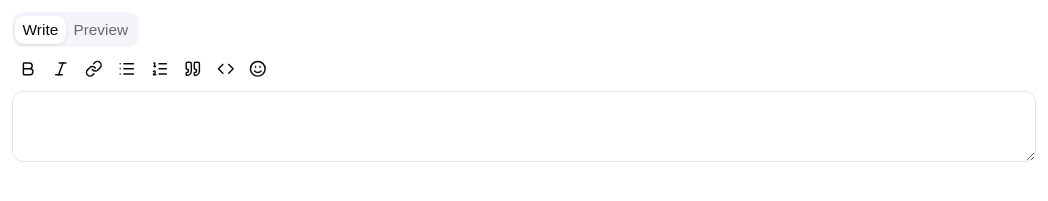
Scenario: MarkdownEditor + react-hook-form register() (uncontrolled) › propagates typed text and toolbar-inserted text back into form state
The width and height of the screenshot is (1048, 201).
Type "hi" into the text box at (524, 126), box top-left (12, 91), bottom-right (1036, 162)
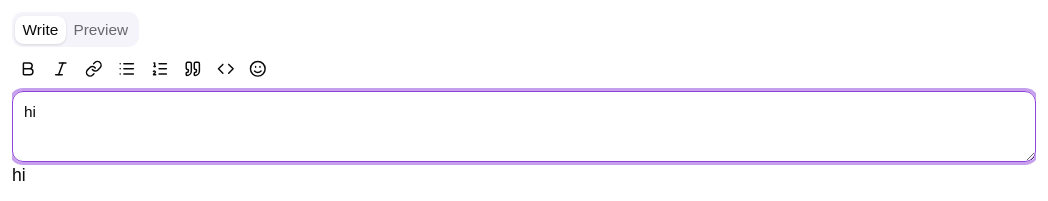
Expected: the text with test id "watched" reads "hi", top-left (12, 165), bottom-right (26, 185)
Click the button named "Bold" at (27, 69), box top-left (12, 54), bottom-right (43, 85)
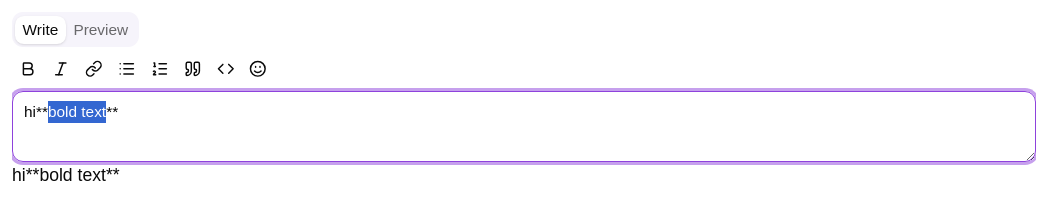
Expected: the text with test id "watched" reads "hi**bold text**", top-left (12, 165), bottom-right (120, 185)
